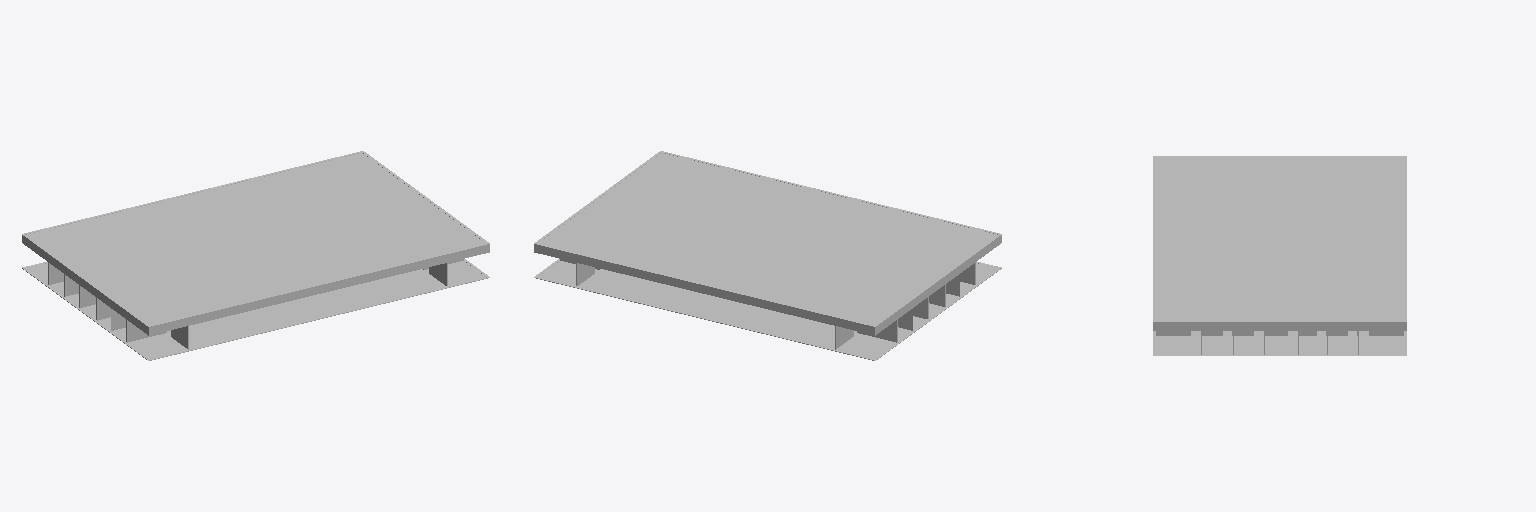
Rendered from Envelope_ForStrip_WWR75p_9ft.obj.
The picture shows the model from 3 angles: view 1: azimuth 30°, elevation 25°; view 2: azimuth 150°, elevation 25°; view 3: azimuth 270°, elevation 25°; orthographic projection.
Visible parts, largest first — view 1: Envelope_ForStrip_WWR75p_9ft.obj; view 2: Envelope_ForStrip_WWR75p_9ft.obj; view 3: Envelope_ForStrip_WWR75p_9ft.obj.
Part boxes in pixels (x1,y1,x2,y2): Envelope_ForStrip_WWR75p_9ft.obj: (22, 151, 489, 360); Envelope_ForStrip_WWR75p_9ft.obj: (534, 151, 1001, 360); Envelope_ForStrip_WWR75p_9ft.obj: (1153, 156, 1406, 355).
Bounding box in the file's own units: 38.71 × 3.69 × 24.94.